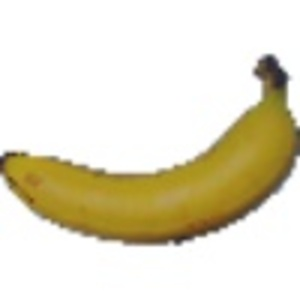banana: (2, 46, 296, 248)
